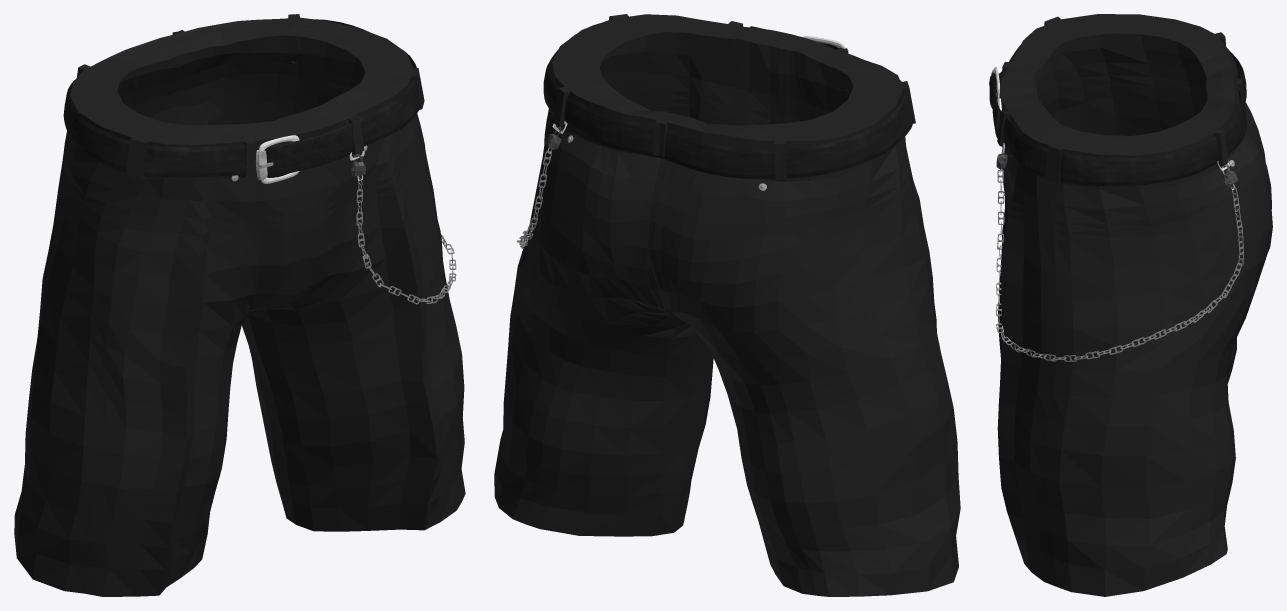
Rendered from mhw_elvs_male_trouser_short_2.glb.
3 renders of one model, left to right at view 1: azimuth 30°, elevation 25°; view 2: azimuth 150°, elevation 25°; view 3: azimuth 270°, elevation 25°, orthographic. The views are drawn at different scales.
Visible parts, largest first — view 1: mhw_elvs_male_trouser_short_2; view 2: mhw_elvs_male_trouser_short_2; view 3: mhw_elvs_male_trouser_short_2.
Part boxes in pixels (<box>): mhw_elvs_male_trouser_short_2: <box>14,14,465,596</box>; mhw_elvs_male_trouser_short_2: <box>494,14,960,596</box>; mhw_elvs_male_trouser_short_2: <box>989,14,1272,596</box>.
Size of the model in its own units: 0.4493 by 0.4599 by 0.2752.
Materials: 1 (1 with a texture image).
